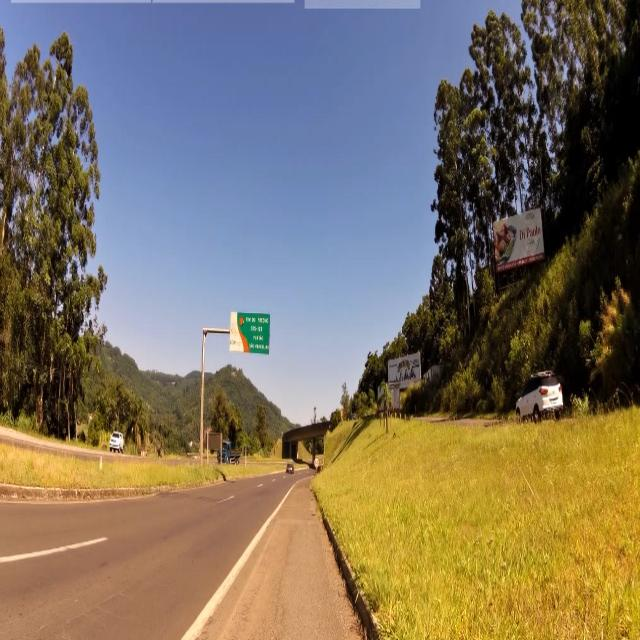I-4: (250, 312, 266, 349)
